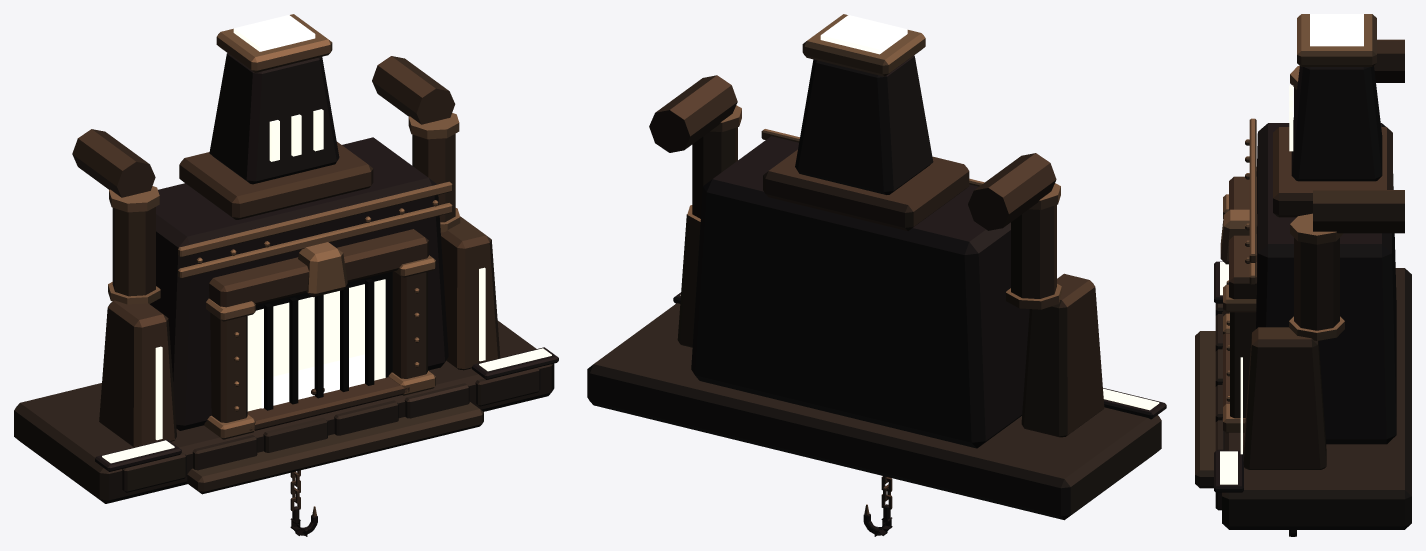
The model's file is forge_kit_components.glb.
3 renders of one model, left to right at view 1: azimuth 30°, elevation 25°; view 2: azimuth 150°, elevation 25°; view 3: azimuth 270°, elevation 25°, orthographic. The views are drawn at different scales.
Parts seen in each view (by area): view 1: Kit_GreatForge, Kit_ChainHook; view 2: Kit_GreatForge, Kit_ChainHook; view 3: Kit_GreatForge.
Boxes of the visible parts, box(x1,y1,x2,y2) form: Kit_GreatForge: box(14, 14, 558, 503); Kit_ChainHook: box(290, 470, 317, 536); Kit_GreatForge: box(587, 14, 1166, 520); Kit_ChainHook: box(863, 476, 892, 536); Kit_GreatForge: box(1195, 14, 1411, 529).
Size of the model in its own units: 27 by 27.86 by 10.85.
